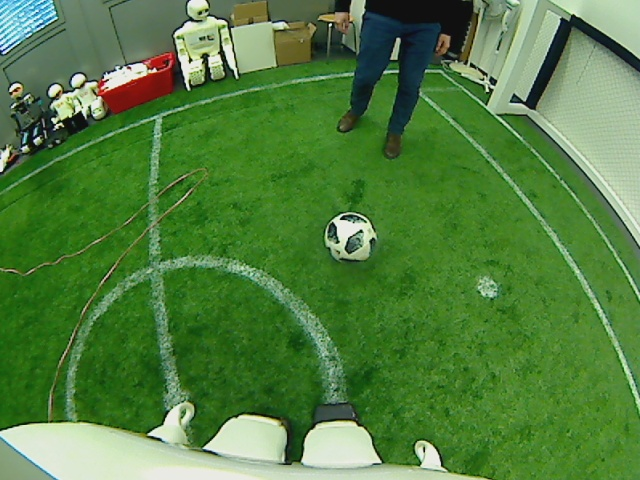ball: (322, 211, 379, 262)
